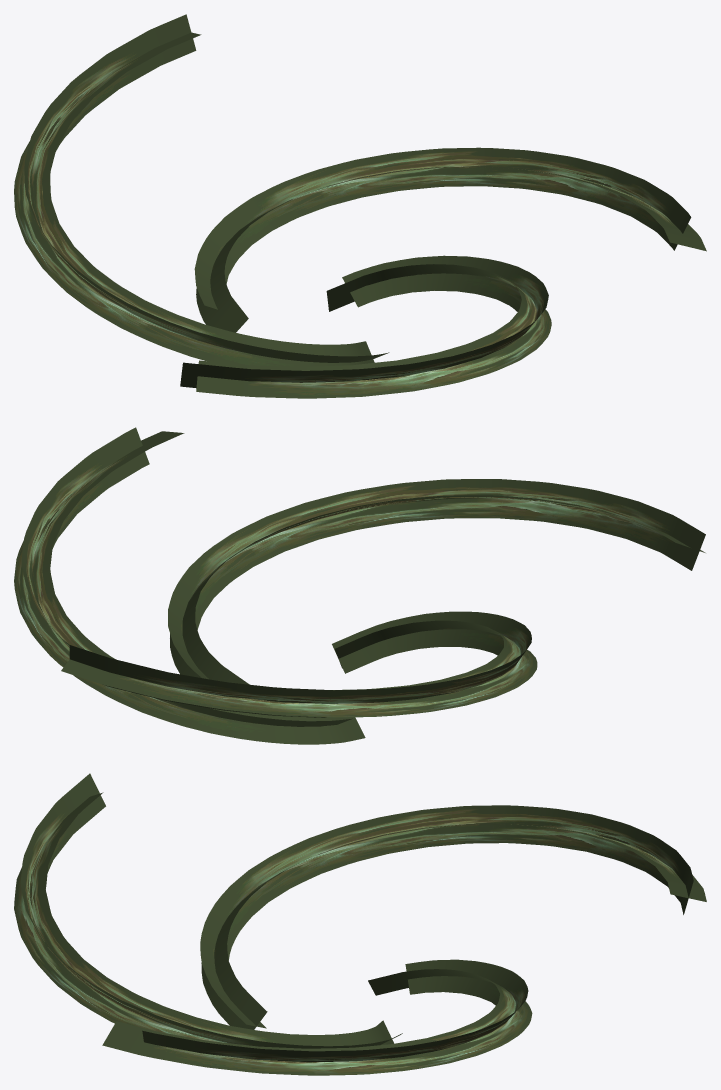
File: xiezi_luoxuanxian_03.FBX
3 renders of one model, top to bottom at view 1: azimuth 30°, elevation 25°; view 2: azimuth 150°, elevation 25°; view 3: azimuth 270°, elevation 25°, orthographic. The views are drawn at different scales.
Visible parts, largest first — view 1: Plane001_lxx_05, Plane001_lxx_07, Plane001_lxx_06; view 2: Plane001_lxx_06, Plane001_lxx_07, Plane001_lxx_05; view 3: Plane001_lxx_07, Plane001_lxx_05, Plane001_lxx_06.
Boxes of the visible parts, x1,y1,x2,y2 form: Plane001_lxx_05: (194,147,706,332); Plane001_lxx_07: (14,14,389,366); Plane001_lxx_06: (180,255,551,398); Plane001_lxx_06: (168,479,705,684); Plane001_lxx_07: (61,611,537,717); Plane001_lxx_05: (14,427,365,744); Plane001_lxx_07: (200,805,706,1029); Plane001_lxx_05: (102,959,532,1075); Plane001_lxx_06: (14,773,402,1048).
Size of the model in its own units: 1319 by 416 by 1468.
